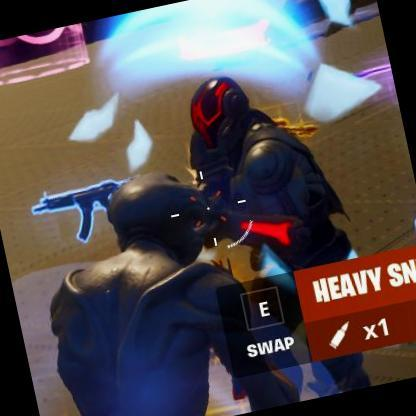person: (173, 63, 360, 288), (318, 351, 374, 395)
